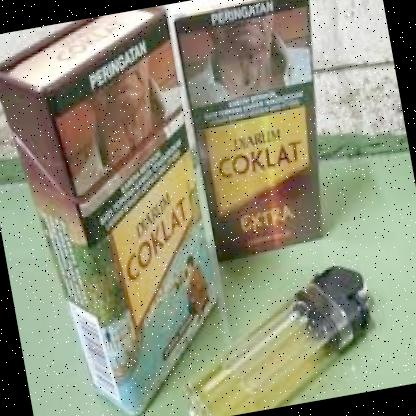bungkus rokok: (0, 4, 238, 416), (165, 0, 355, 267)
